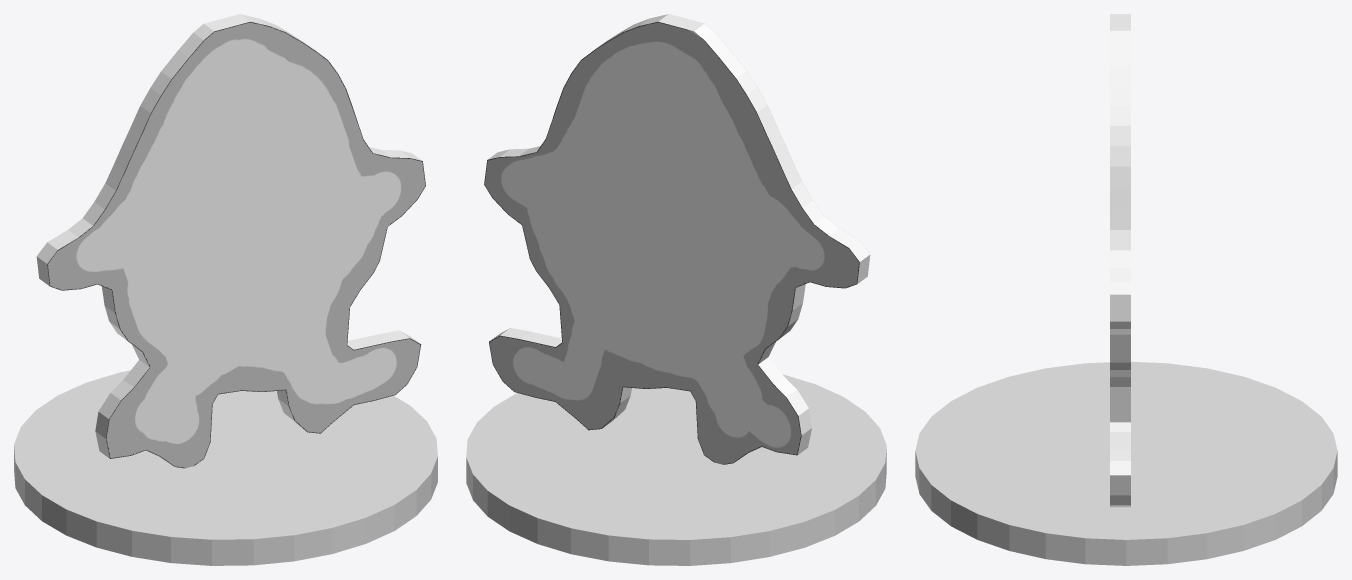
File: penguin.glb
The picture shows the model from 3 angles, left to right: view 1: azimuth 30°, elevation 25°; view 2: azimuth 150°, elevation 25°; view 3: azimuth 270°, elevation 25°; orthographic projection.
Visible parts, largest first — view 1: GreasePencil, Circle; view 2: GreasePencil, Circle; view 3: Circle, GreasePencil.
Part boxes in pixels (bbox=[...]): GreasePencil: bbox=[36, 14, 425, 468]; Circle: bbox=[14, 370, 437, 565]; GreasePencil: bbox=[484, 14, 870, 464]; Circle: bbox=[466, 374, 886, 565]; Circle: bbox=[915, 361, 1337, 565]; GreasePencil: bbox=[1110, 14, 1130, 507].
Bounding box in the file's own units: 2.06 × 2.37 × 2.
Materials: 2 (1 with a texture image).
